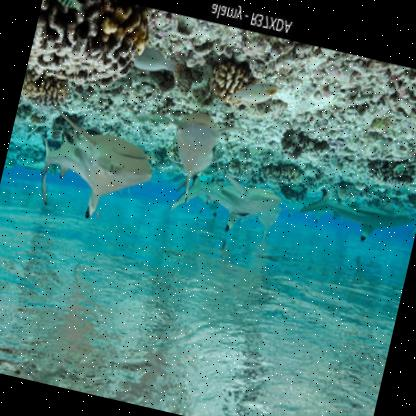zebra_shark: (16, 100, 194, 263)
